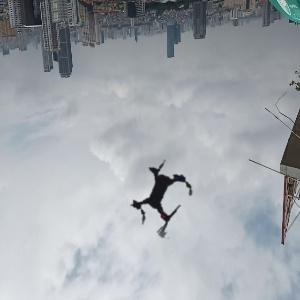drone: (107, 141, 222, 256)
